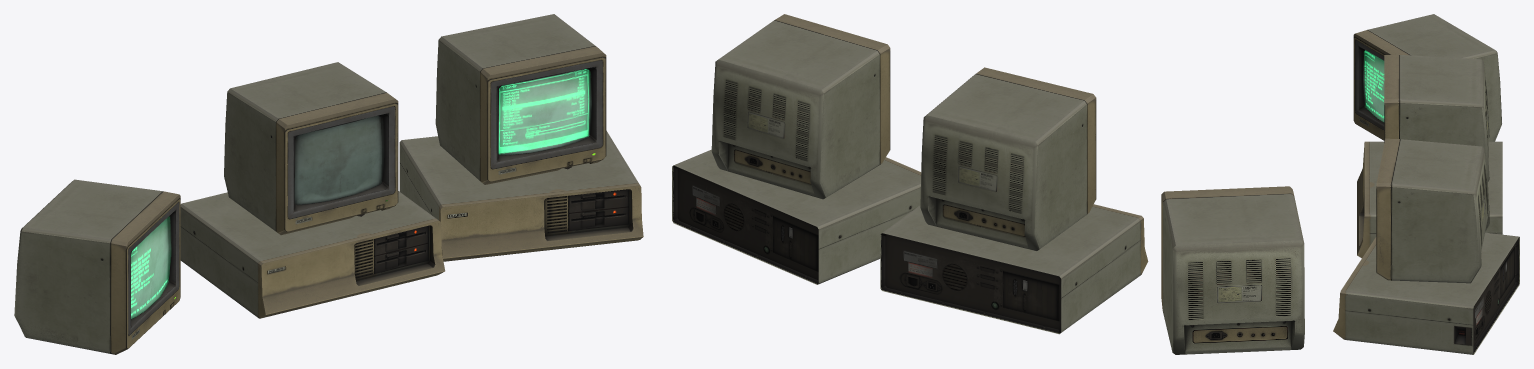
Rendered from comp1.fbx.
3 views of the same model, side by side, from view 1: azimuth 30°, elevation 25°; view 2: azimuth 150°, elevation 25°; view 3: azimuth 270°, elevation 25° (orthographic). The views are drawn at different scales.
Parts seen in each view (by area): view 1: Object001_Material #3_0, Object002_Material #4_0, Object003_Material #2_0, Box002_Material #2_0, Box005_Material #2_0; view 2: Object002_Material #4_0, Object001_Material #3_0, Object003_Material #2_0, Box002_Material #2_0, Box005_Material #2_0; view 3: Object002_Material #4_0, Box005_Material #2_0, Object001_Material #3_0, Object003_Material #2_0, Box002_Material #2_0.
Boxes of the visible parts, x1,y1,x2,y2 form: Object001_Material #3_0: [224, 62, 398, 235]; Object002_Material #4_0: [435, 14, 606, 184]; Object003_Material #2_0: [14, 179, 180, 354]; Box002_Material #2_0: [180, 191, 445, 318]; Box005_Material #2_0: [399, 130, 643, 261]; Object002_Material #4_0: [711, 14, 890, 199]; Object001_Material #3_0: [920, 67, 1096, 250]; Object003_Material #2_0: [1161, 186, 1304, 354]; Box002_Material #2_0: [880, 204, 1148, 334]; Box005_Material #2_0: [672, 149, 921, 284]; Object002_Material #4_0: [1376, 138, 1489, 283]; Box005_Material #2_0: [1333, 232, 1519, 354]; Object001_Material #3_0: [1384, 55, 1489, 181]; Object003_Material #2_0: [1353, 14, 1501, 141]; Box002_Material #2_0: [1357, 141, 1502, 258].
Bounding box in the file's own units: 922765 × 263801 × 292082.
3 materials, 3 textured.
